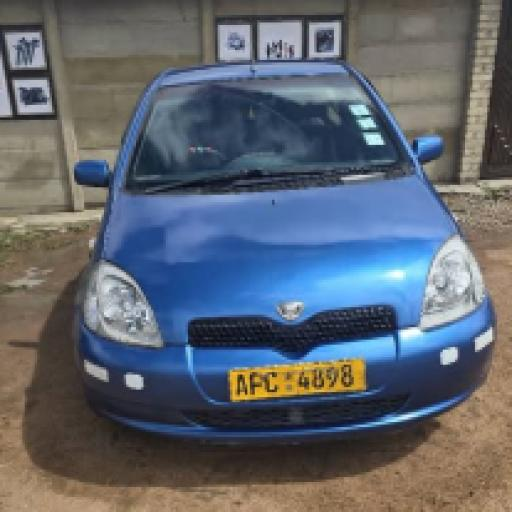number-plates: (230, 362, 354, 400)
